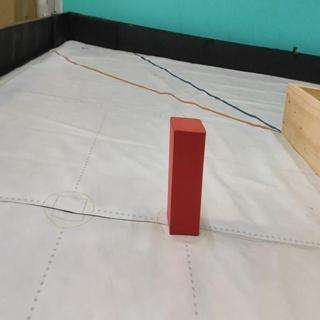redbox: (167, 115, 207, 235)
